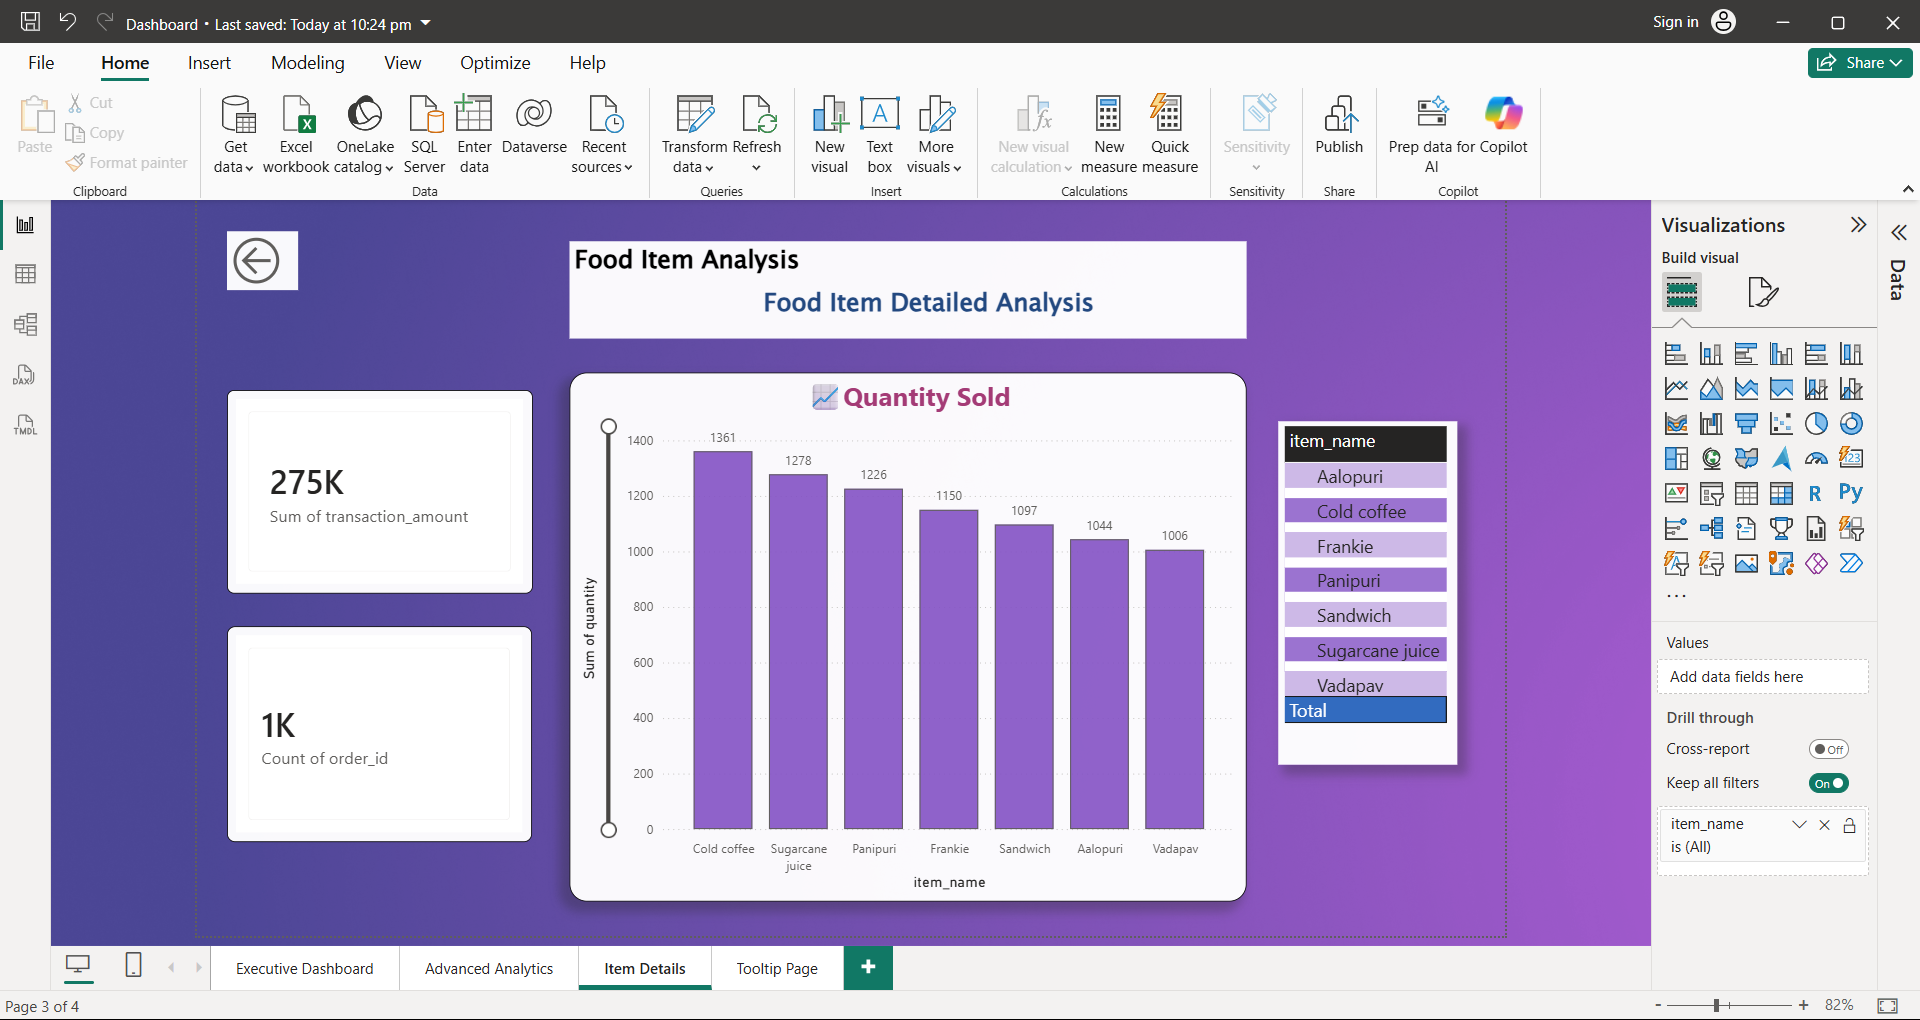

This screenshot's page, from the dashboard's own definition file:
{"tool":"powerbi","page":{"name":"Item Details","canvas":[1280,720],"ordinal":2},"visuals":[{"type":"actionButton","box":[29.3,30.6,69.7,57.5],"z":0},{"type":"textbox","box":[364.4,40.4,662.8,95.4],"z":1000},{"type":"cardVisual","fields":{"Data":["Sum(cleaned_foodorders.transaction_amount)"]},"box":[29.3,185.9,299.6,199.3],"z":2000},{"type":"cardVisual","fields":{"Data":["CountNonNull(cleaned_foodorders.order_id)"]},"box":[29.3,417,298.4,211.6],"z":3000},{"type":"clusteredColumnChart","title":"📈Quantity Sold","fields":{"Y":["Sum(cleaned_foodorders.quantity)"],"Category":["cleaned_foodorders.item_name"]},"box":[364.4,168.8,662.8,517.3],"z":4000},{"type":"tableEx","fields":{"Values":["cleaned_foodorders.item_name"]},"box":[1057.8,216.4,174.9,336.3],"z":5000}]}

Visuals, with their boxes on the page's 1280x720 design canvas (x1, y1, x2, y2). These are canvas units, not pixel positions in the 1920x1020 screenshot, which may show the page scaled, cropped or inside an application window:
actionButton: [left=29, top=31, right=99, bottom=88]
textbox: [left=364, top=40, right=1027, bottom=136]
cardVisual - Sum(cleaned_foodorders.transaction_amount): [left=29, top=186, right=329, bottom=385]
cardVisual - CountNonNull(cleaned_foodorders.order_id): [left=29, top=417, right=328, bottom=629]
"📈Quantity Sold" clusteredColumnChart: [left=364, top=169, right=1027, bottom=686]
tableEx - cleaned_foodorders.item_name: [left=1058, top=216, right=1233, bottom=553]
